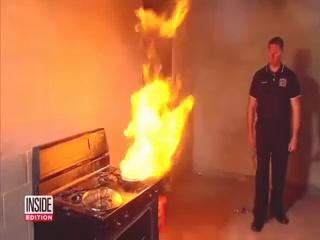Fire: (115, 24, 218, 185)
